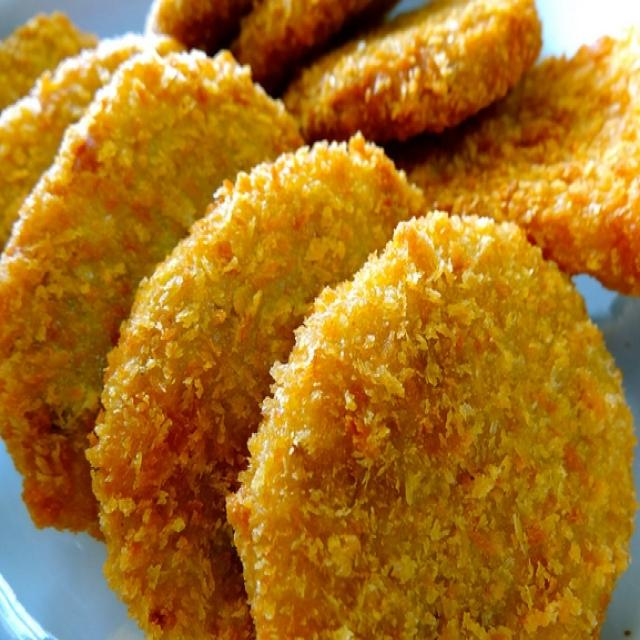炸货点心: (21, 21, 628, 615)
